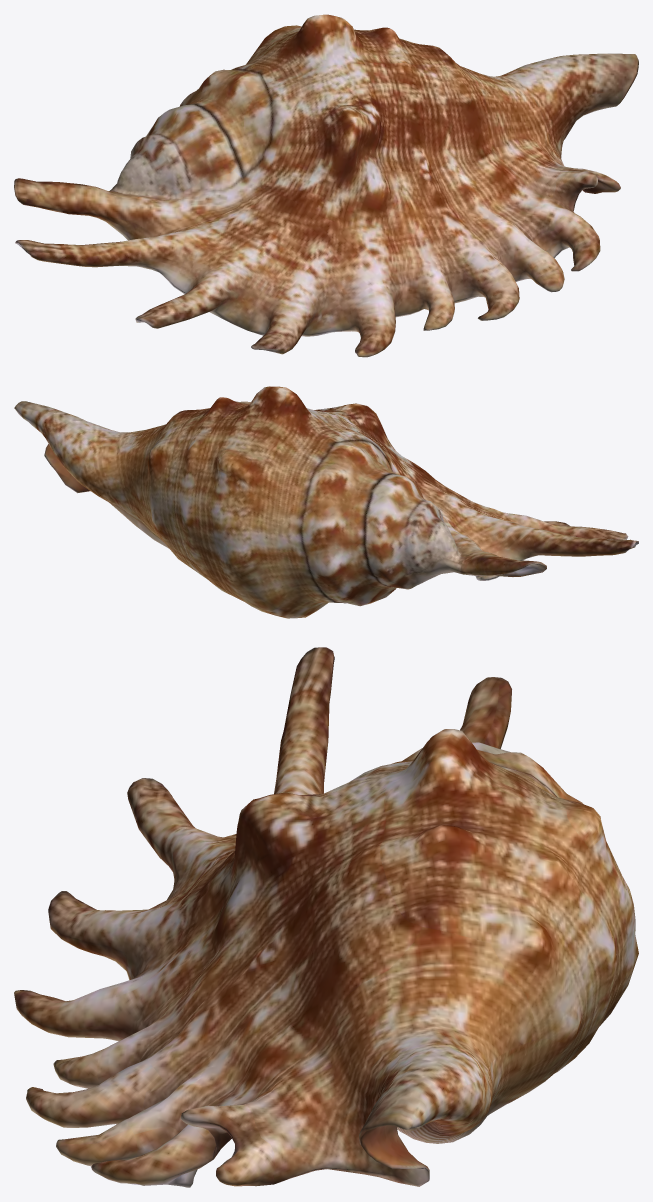
Rendered from lambis_shell.657f5cf4.glb.
The picture shows the model from 3 angles, top to bottom: view 1: azimuth 30°, elevation 25°; view 2: azimuth 150°, elevation 25°; view 3: azimuth 270°, elevation 25°; orthographic projection. The views are drawn at different scales.
Parts seen in each view (by area): view 1: lambis_shell; view 2: lambis_shell; view 3: lambis_shell.
Boxes of the visible parts, x1,y1,x2,y2 form: lambis_shell: [14, 14, 638, 357]; lambis_shell: [14, 386, 638, 618]; lambis_shell: [14, 647, 638, 1187].
Size of the model in its own units: 0.95 by 0.3167 by 0.5073.
Materials: 1 (1 with a texture image).
